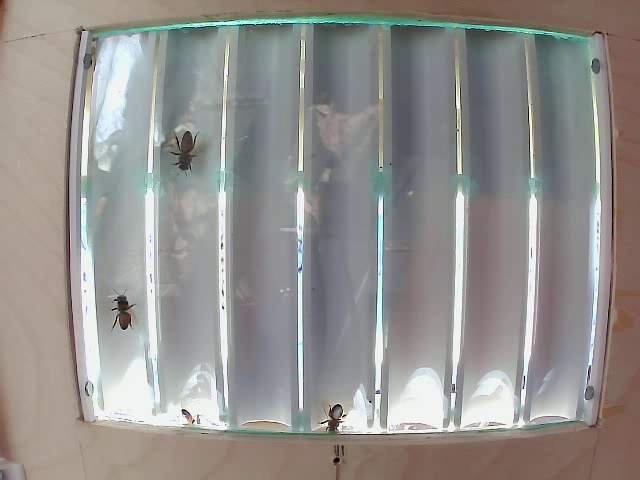bee: (101, 274, 143, 342), (172, 123, 212, 184)
